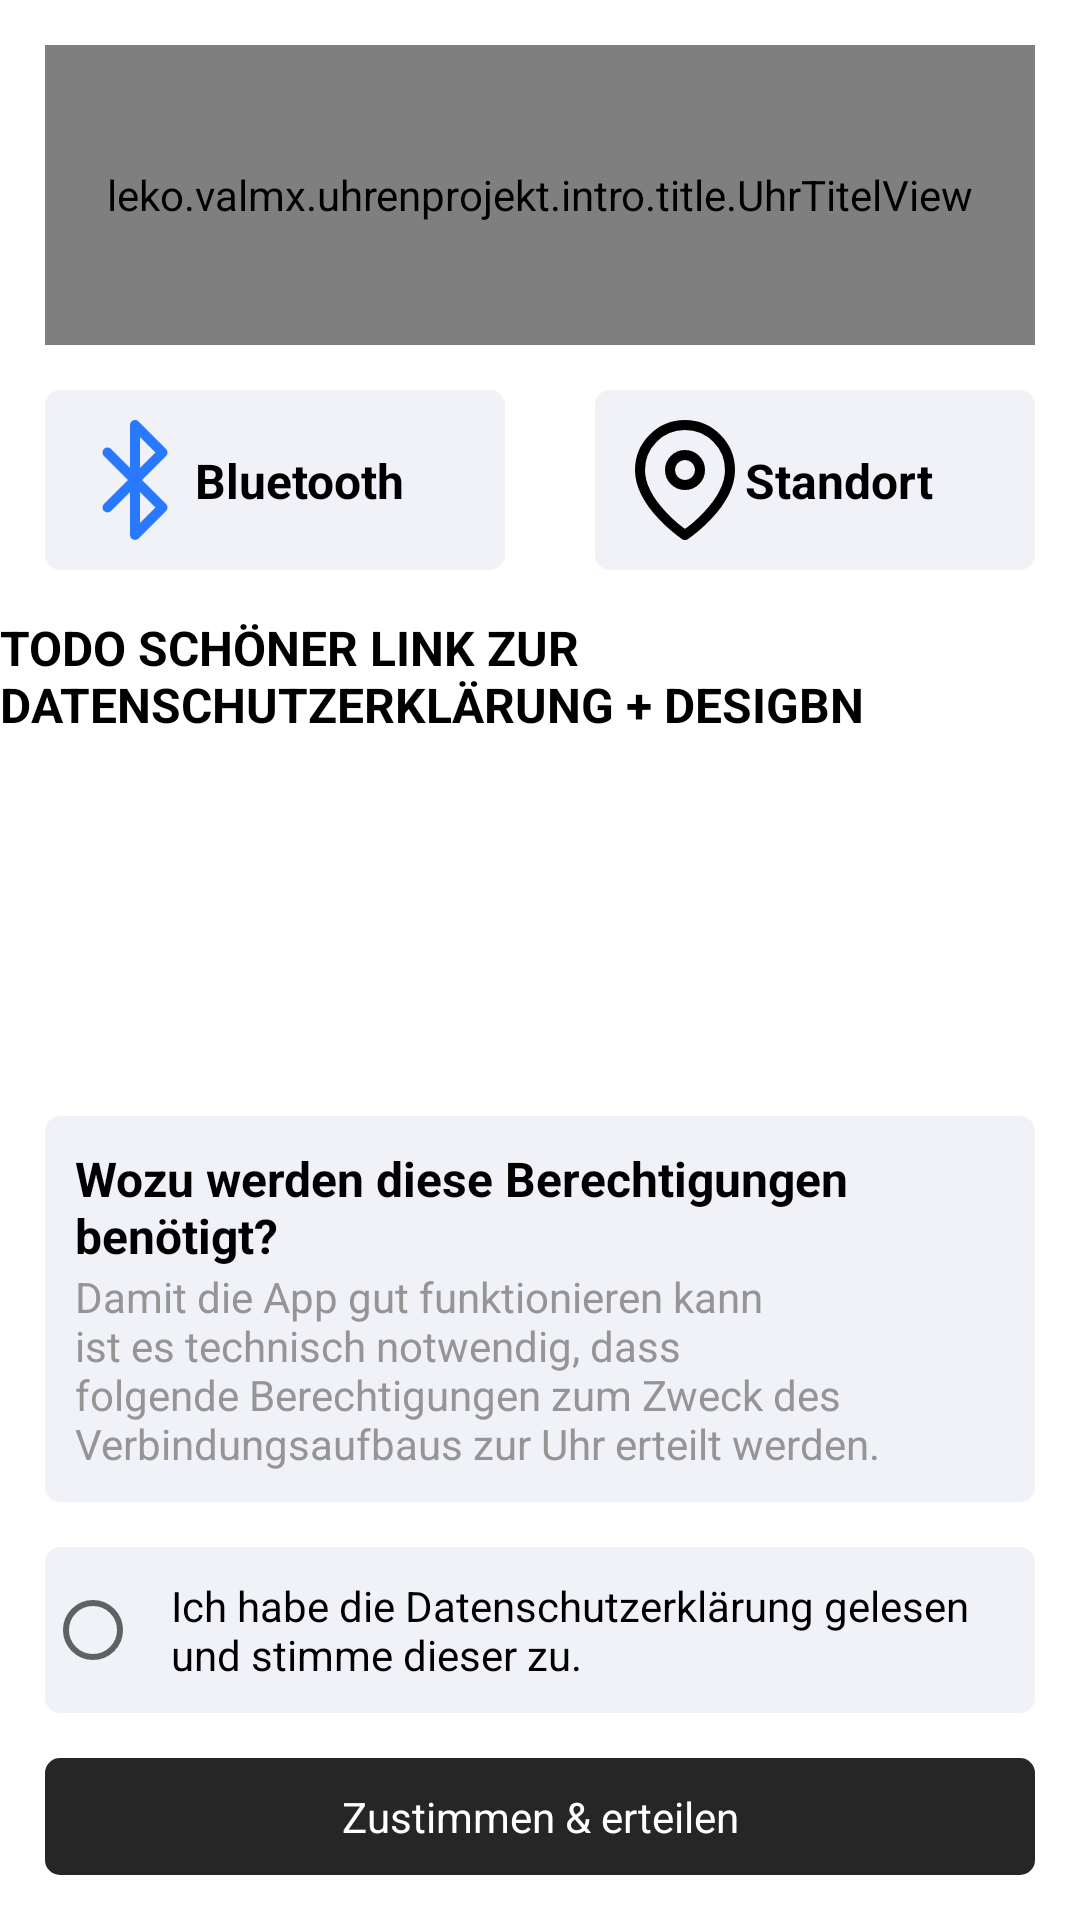

Icon bounding boxes for this 1080px×1920px phone screenshot, format box=[x1, y1, x2, y2]:
map pin: box=[635, 420, 735, 540]
